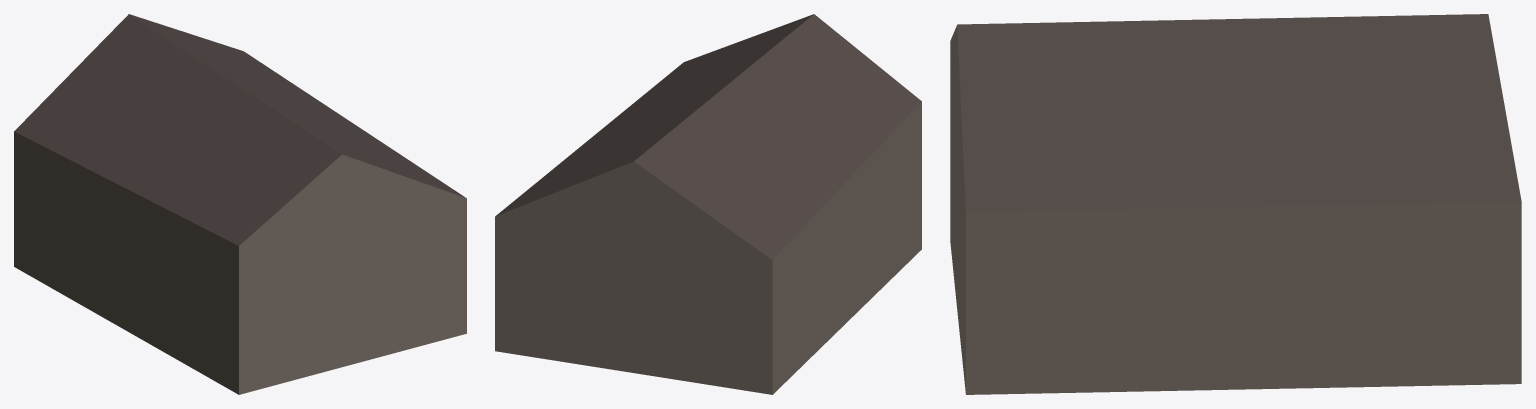
3 renders of one model, left to right at view 1: azimuth 30°, elevation 25°; view 2: azimuth 150°, elevation 25°; view 3: azimuth 270°, elevation 25°, orthographic. The views are drawn at different scales.
Visible parts, largest first — view 1: HP-w1512965891; view 2: HP-w1512965891; view 3: HP-w1512965891.
Boxes of the visible parts, bbox=[...] form: HP-w1512965891: bbox=[14, 14, 466, 394]; HP-w1512965891: bbox=[495, 14, 921, 394]; HP-w1512965891: bbox=[950, 14, 1521, 394].
Bounding box in the file's own units: 12.57 × 9.43 × 17.04.
